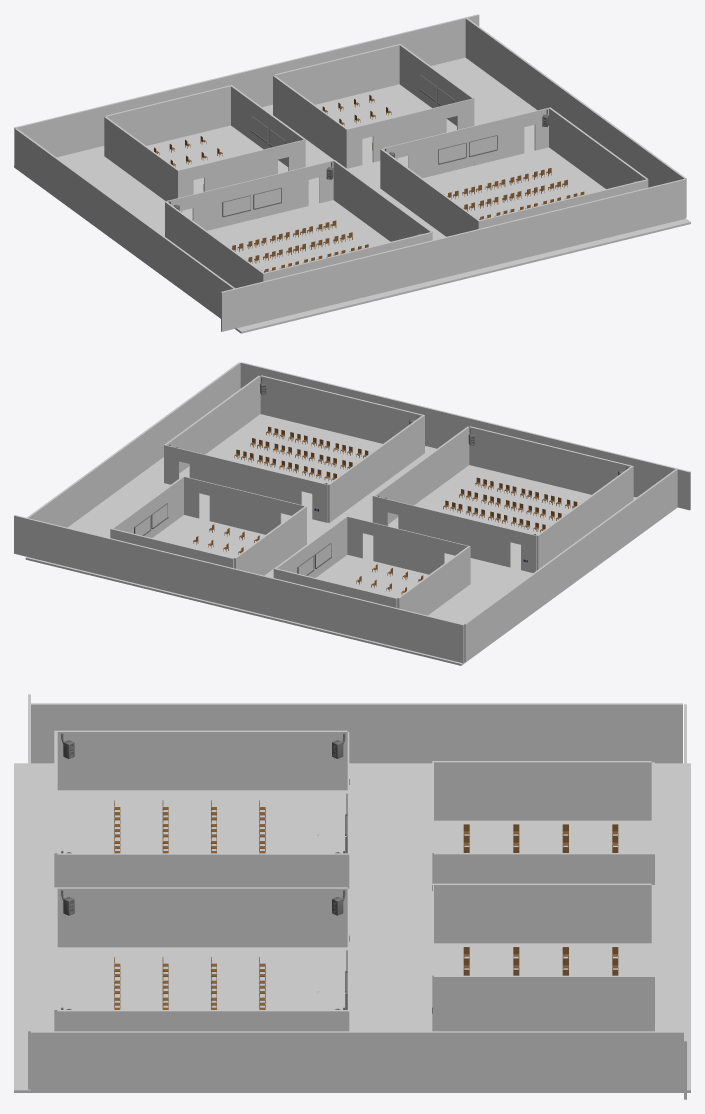
The model's file is Hallway.fbx.
3 views of the same model, one above another, from view 1: azimuth 30°, elevation 25°; view 2: azimuth 150°, elevation 25°; view 3: azimuth 270°, elevation 25° (orthographic). The views are drawn at different scales.
Parts seen in each view (by area): view 1: Floor.029; view 2: Floor.029; view 3: Floor.029.
Part boxes in pixels (x1,y1,x2,y2): Floor.029: (14, 14, 690, 333); Floor.029: (14, 362, 690, 665); Floor.029: (14, 694, 690, 1099).
Size of the model in its own units: 50.97 by 42 by 4.2.
